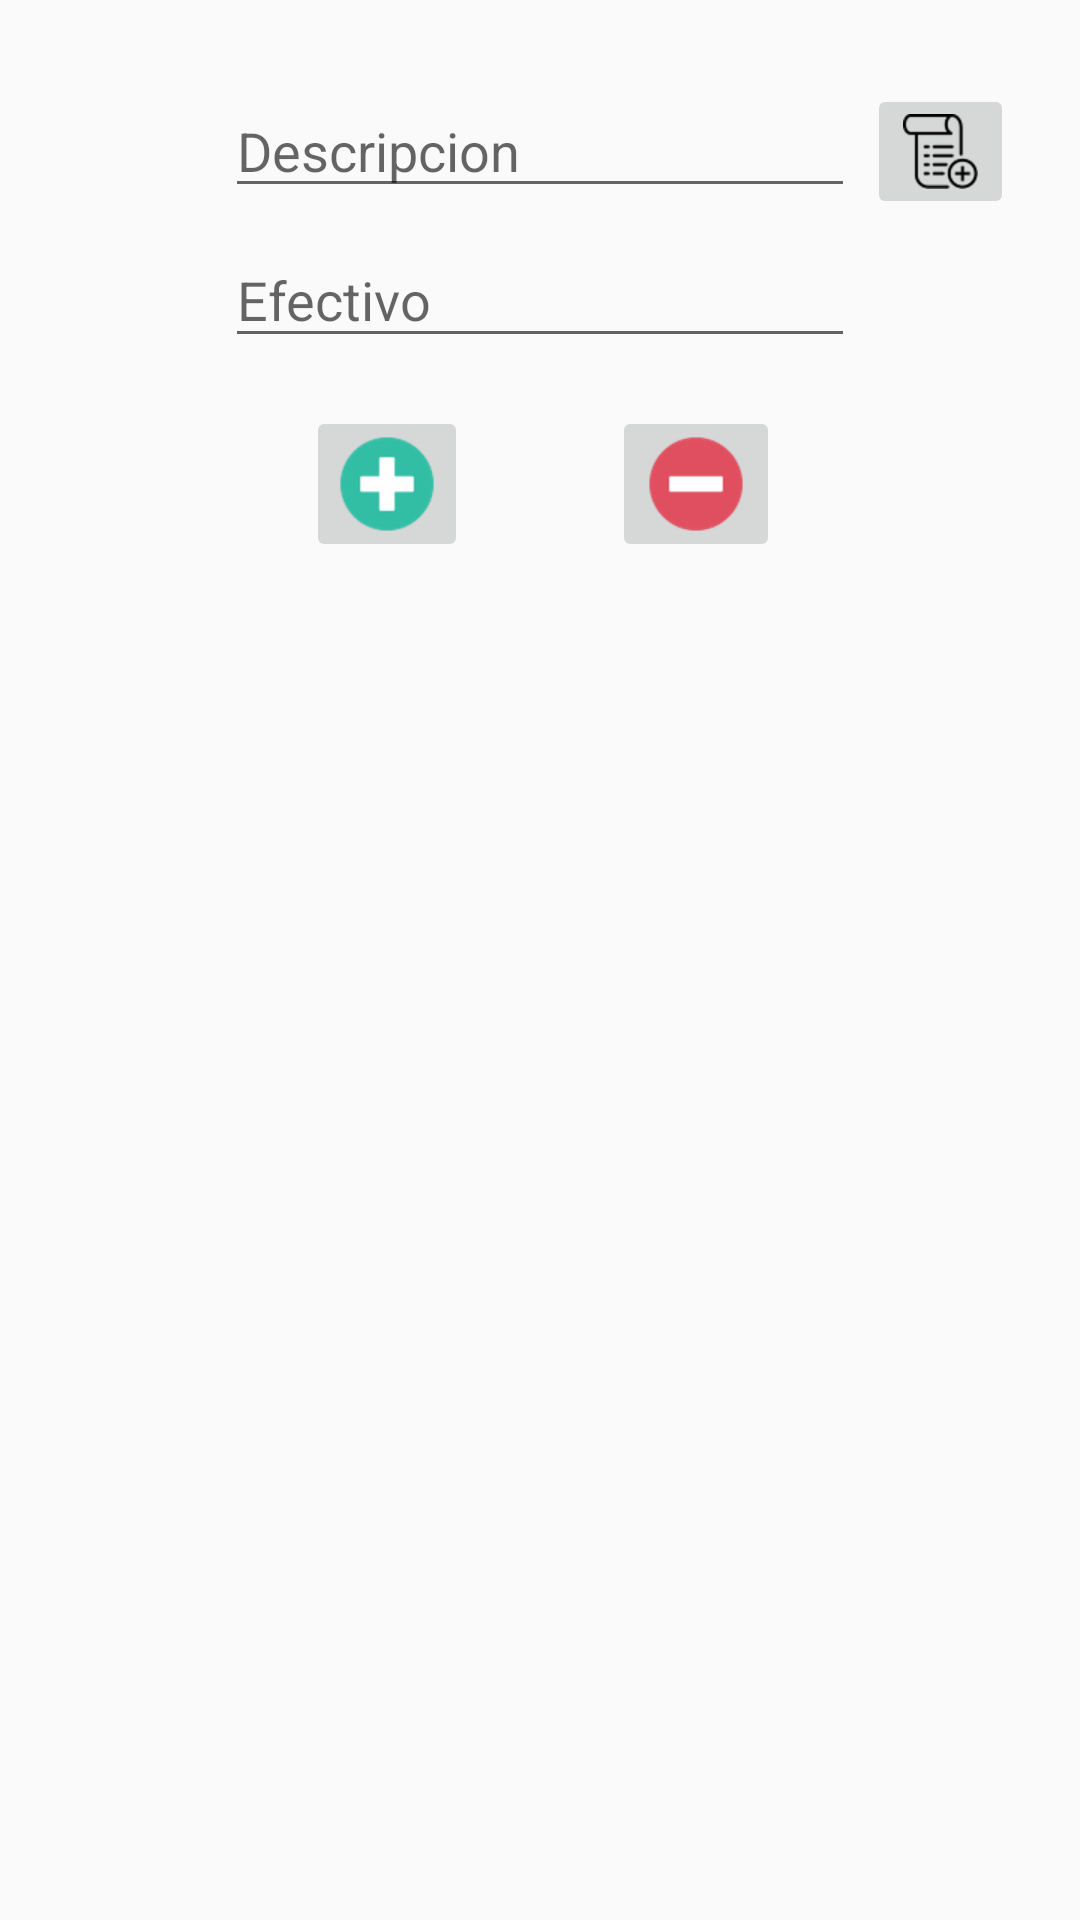

Screen size 1080px×1920px. Icon name, then its box in pixels as (x1, y1, x2, y2):
addminus: (624, 424, 768, 544)
addmore: (318, 424, 456, 544)
